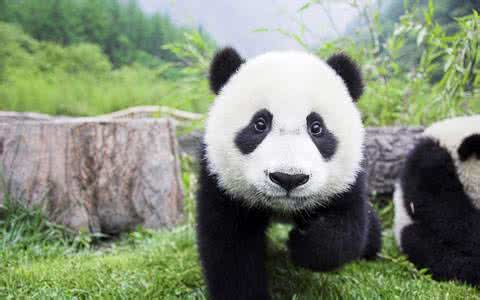panda: (190, 44, 386, 300), (392, 111, 479, 295)
